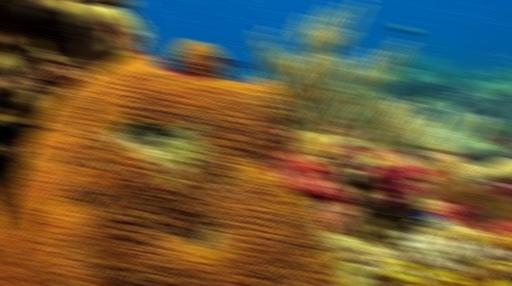Fish: (0, 122, 49, 145), (412, 211, 441, 229), (393, 23, 420, 35), (220, 59, 251, 69), (419, 108, 444, 118), (417, 210, 440, 220)
